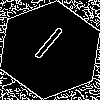I: (25, 25, 67, 70)
